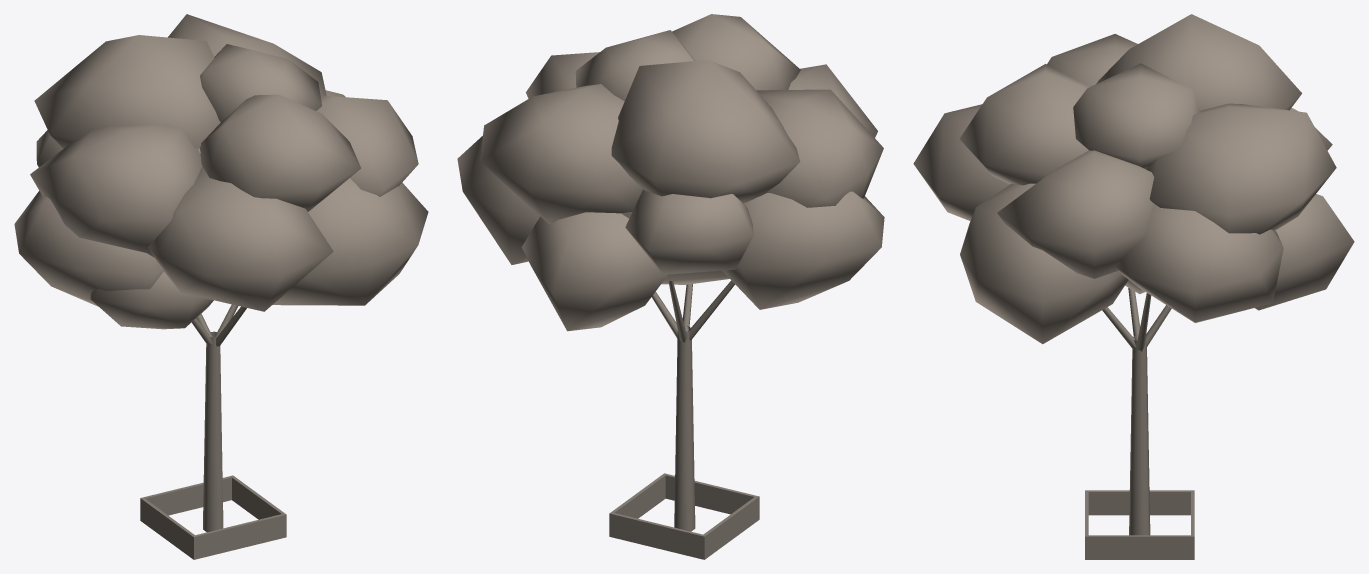
File: tree_a.glb
3 renders of one model, left to right at view 1: azimuth 30°, elevation 25°; view 2: azimuth 150°, elevation 25°; view 3: azimuth 270°, elevation 25°, orthographic. The views are drawn at different scales.
Visible parts, largest first — view 1: tree_a; view 2: tree_a; view 3: tree_a.
Boxes of the visible parts, left/top/right/bottom form: tree_a: left=14, top=14, right=428, bottom=559; tree_a: left=457, top=14, right=884, bottom=559; tree_a: left=913, top=14, right=1354, bottom=559.
Bounding box in the file's own units: 6.26 × 7.52 × 6.04.
